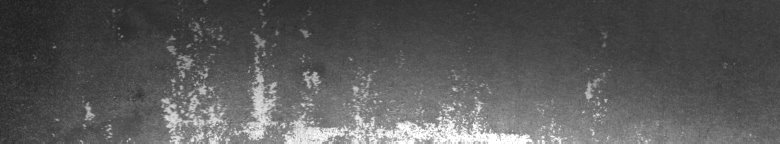kb: (33, 4, 611, 136)
